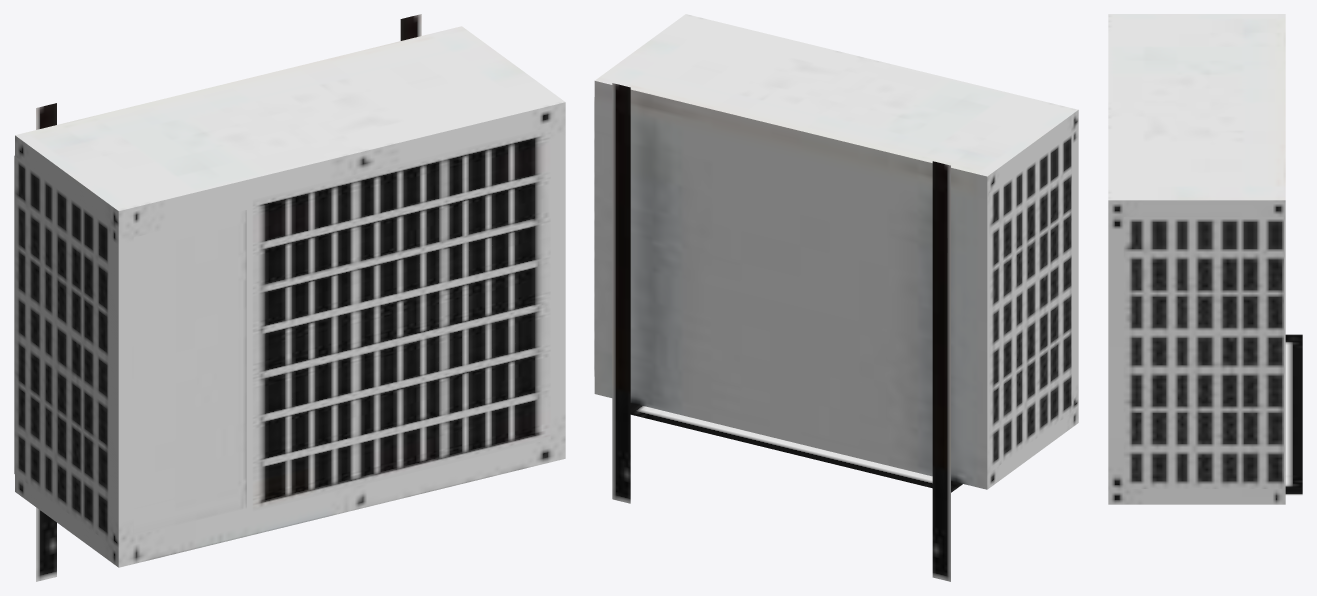
File: cond.fbx
3 views of the same model, side by side, from view 1: azimuth 30°, elevation 25°; view 2: azimuth 150°, elevation 25°; view 3: azimuth 270°, elevation 25° (orthographic). The views are drawn at different scales.
Visible parts, largest first — view 1: Plane.044_Plane.000; view 2: Plane.044_Plane.000; view 3: Plane.044_Plane.000.
Boxes of the visible parts, x1,y1,x2,y2 form: Plane.044_Plane.000: [14, 14, 565, 581]; Plane.044_Plane.000: [594, 14, 1078, 581]; Plane.044_Plane.000: [1108, 14, 1302, 504].
Bounding box in the file's own units: 554 × 558 × 244.
